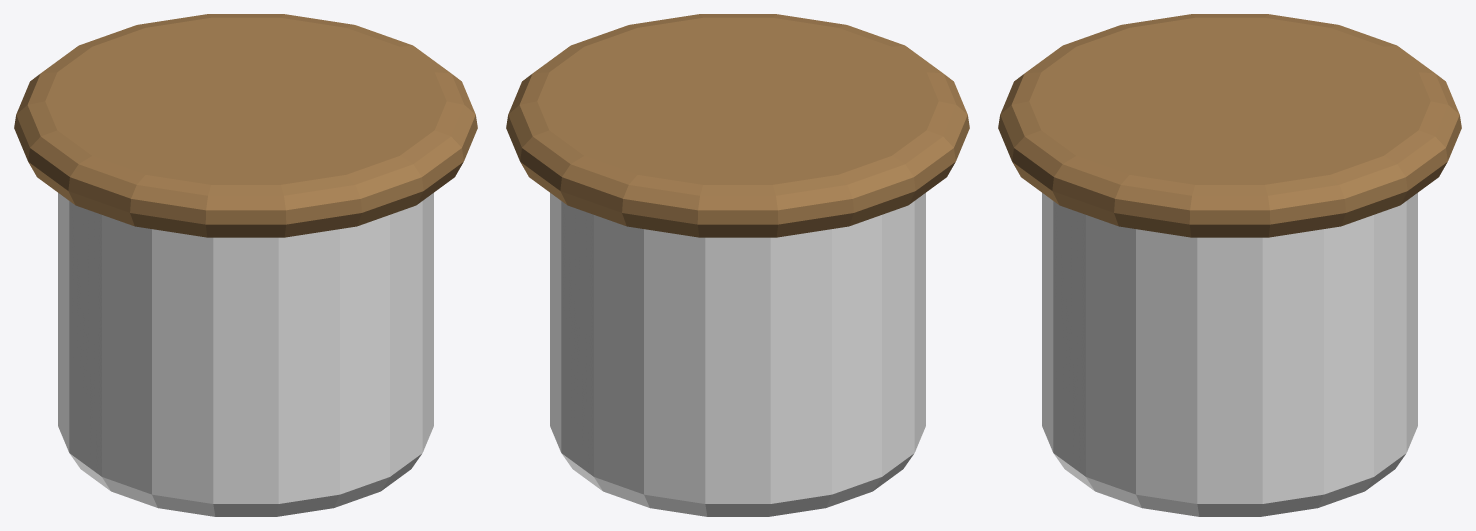
Rendered from Chair_8.fbx.
The picture shows the model from 3 angles, left to right: view 1: azimuth 30°, elevation 25°; view 2: azimuth 150°, elevation 25°; view 3: azimuth 270°, elevation 25°; orthographic projection.
Parts seen in each view (by area): view 1: Chair_8; view 2: Chair_8; view 3: Chair_8.
Boxes of the visible parts, <box> form: Chair_8: <box>14,14,477,516</box>; Chair_8: <box>506,14,969,516</box>; Chair_8: <box>998,14,1461,516</box>.
Bounding box in the file's own units: 0.4371 × 0.3615 × 0.4438.
